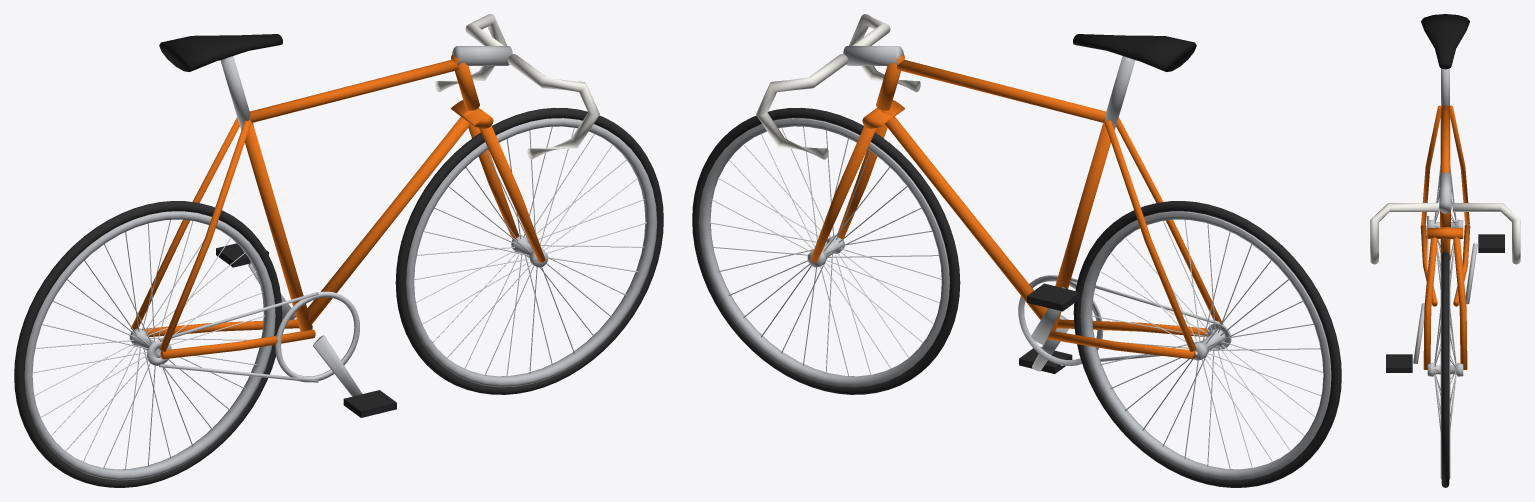
File: bike.glb
3 renders of one model, left to right at view 1: azimuth 30°, elevation 25°; view 2: azimuth 150°, elevation 25°; view 3: azimuth 270°, elevation 25°, orthographic. The views are drawn at different scales.
Parts seen in each view (by area): view 1: wheel_front_rim, wheel_rear_rim, wheel_rear_tyre, wheel_front_tyre, wheel_front_spokes, wheel_rear_spokes, down_tube, saddle, seat_tube, top_tube, drop_l, seatstay_l (+12 smaller); view 2: wheel_rear_rim, wheel_front_rim, wheel_rear_tyre, wheel_front_tyre, wheel_front_spokes, wheel_rear_spokes, down_tube, saddle, top_tube, seat_tube, drop_r, seatstay_r (+11 smaller); view 3: wheel_front_tyre, saddle, drop_r, drop_l, fork_l, fork_r, wheel_front_rim, wheel_front_spokes, seatstay_l, seatstay_r, top_tube, wheel_rear_spokes (+11 smaller).
Boxes of the visible parts, x1,y1,x2,y2 form: wheel_front_rim: (406, 118, 657, 387); wheel_rear_rim: (24, 211, 275, 480); wheel_rear_tyre: (14, 201, 282, 487); wheel_front_tyre: (395, 107, 663, 394); wheel_front_spokes: (414, 126, 646, 376); wheel_rear_spokes: (32, 220, 265, 469); down_tube: (307, 110, 474, 324); saddle: (159, 34, 282, 71); seat_tube: (241, 120, 312, 331); top_tube: (249, 59, 458, 122); drop_l: (507, 54, 599, 159); seatstay_l: (159, 120, 251, 351); wheel_rear_rim: (1080, 211, 1331, 480); wheel_front_rim: (698, 118, 949, 387); wheel_rear_tyre: (1073, 201, 1341, 487); wheel_front_tyre: (692, 107, 960, 394); wheel_front_spokes: (709, 126, 941, 376); wheel_rear_spokes: (1090, 220, 1323, 469); down_tube: (881, 110, 1047, 320); saddle: (1073, 34, 1196, 71); top_tube: (897, 59, 1106, 122); seat_tube: (1051, 120, 1114, 331); drop_r: (756, 54, 848, 159); seatstay_r: (1104, 120, 1196, 351); wheel_front_tyre: (1441, 251, 1449, 487); saddle: (1421, 14, 1469, 69); drop_r: (1452, 203, 1520, 264); drop_l: (1370, 203, 1438, 264); fork_l: (1423, 237, 1437, 369); fork_r: (1453, 237, 1467, 369); wheel_front_rim: (1440, 260, 1450, 479); wheel_front_spokes: (1434, 307, 1456, 431); seatstay_l: (1421, 105, 1440, 225); seatstay_r: (1450, 105, 1469, 225); top_tube: (1441, 105, 1449, 173); wheel_rear_spokes: (1434, 164, 1456, 288).
Bounding box in the file's own units: 1.62 × 1.03 × 0.4248.
